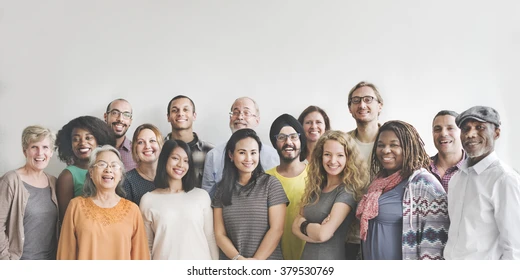person: (376, 120, 418, 169), (458, 113, 502, 158), (269, 116, 305, 170), (20, 130, 53, 188), (159, 144, 197, 191), (319, 134, 354, 183), (224, 134, 264, 176), (431, 111, 463, 163), (62, 123, 104, 158), (347, 85, 382, 126), (104, 99, 135, 144), (93, 151, 121, 197), (229, 96, 261, 135), (132, 125, 161, 168), (167, 96, 198, 136), (300, 106, 329, 143)
